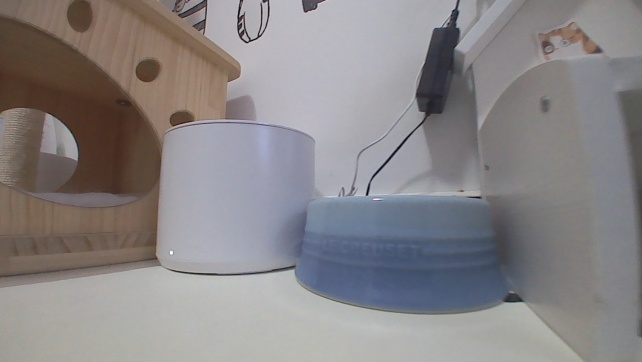wire: (333, 56, 425, 196), (363, 115, 429, 197), (437, 0, 462, 28)
